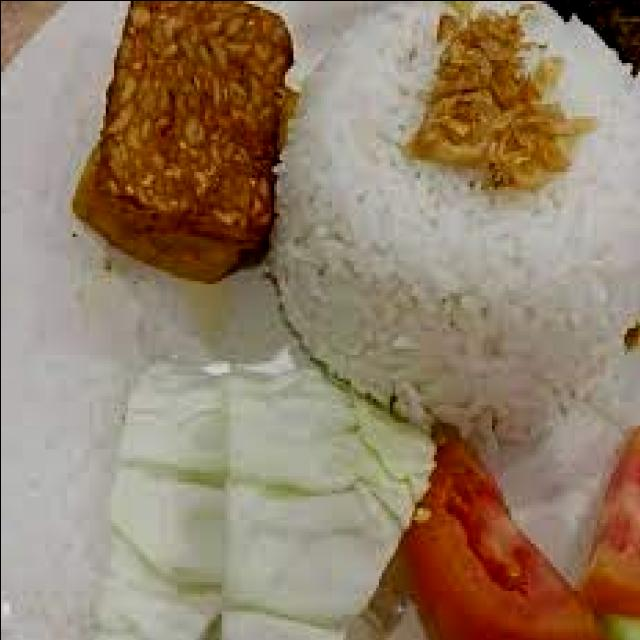nasi: (272, 9, 638, 435)
tempe goreng: (80, 3, 298, 237)
